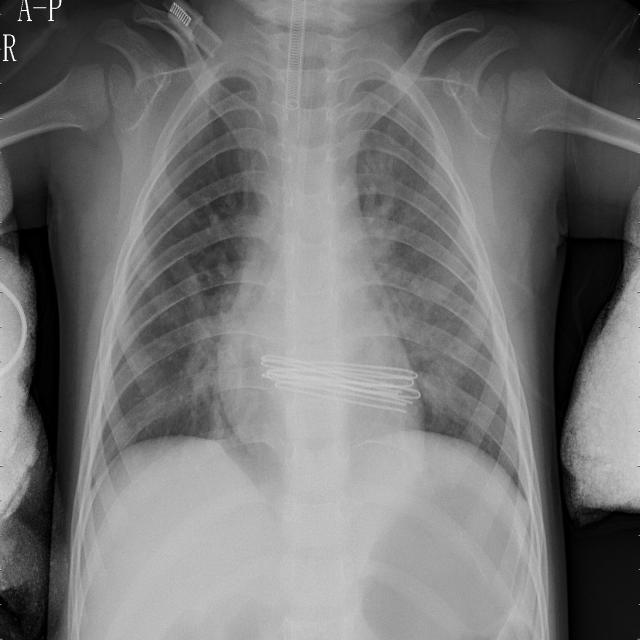low-pneumonia: (364, 183, 441, 373), (187, 301, 228, 428)
